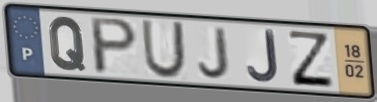J: (196, 25, 232, 81), (245, 28, 280, 84)
P: (89, 16, 141, 76)
Q: (47, 15, 88, 73)
U: (139, 18, 188, 81)
Z: (287, 28, 336, 89)
